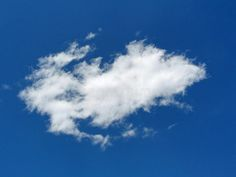Cumulus: (16, 21, 210, 153)
